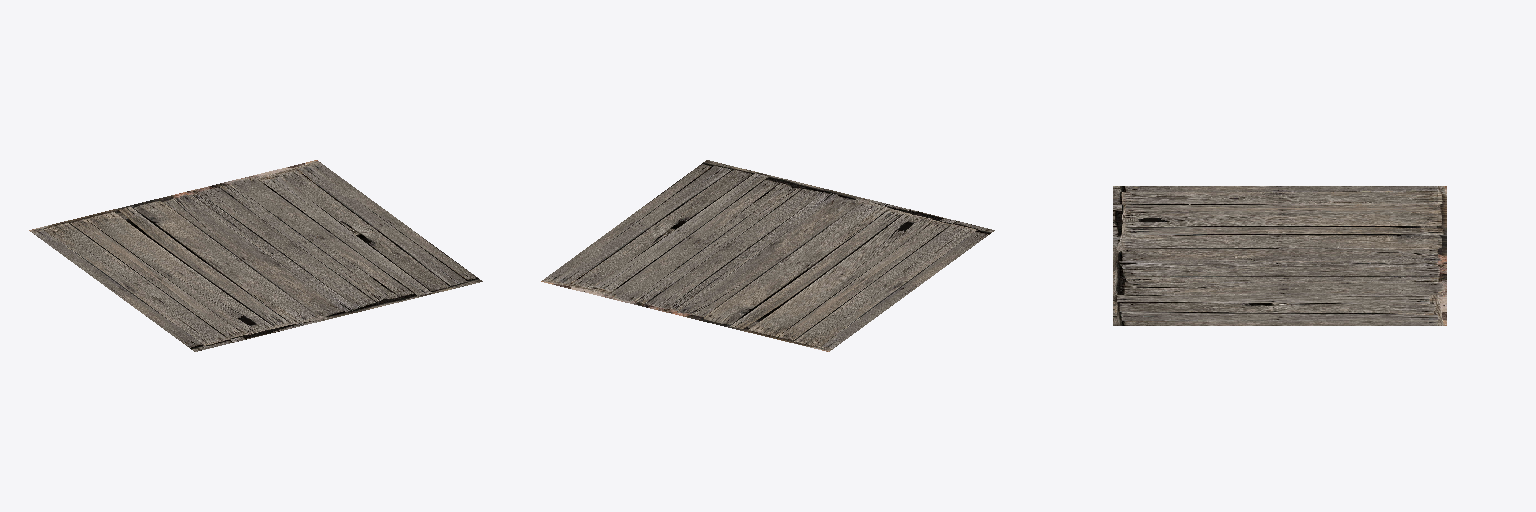
The picture shows the model from 3 angles: view 1: azimuth 30°, elevation 25°; view 2: azimuth 150°, elevation 25°; view 3: azimuth 270°, elevation 25°; orthographic projection.
Parts seen in each view (by area): view 1: Rectangle; view 2: Rectangle; view 3: Rectangle.
Part boxes in pixels (x1,y1,x2,y2): Rectangle: (29,160,482,351); Rectangle: (541,160,994,351); Rectangle: (1113,186,1446,325).
Size of the model in its own units: 100 by 0 by 100.
Materials: 1 (1 with a texture image).